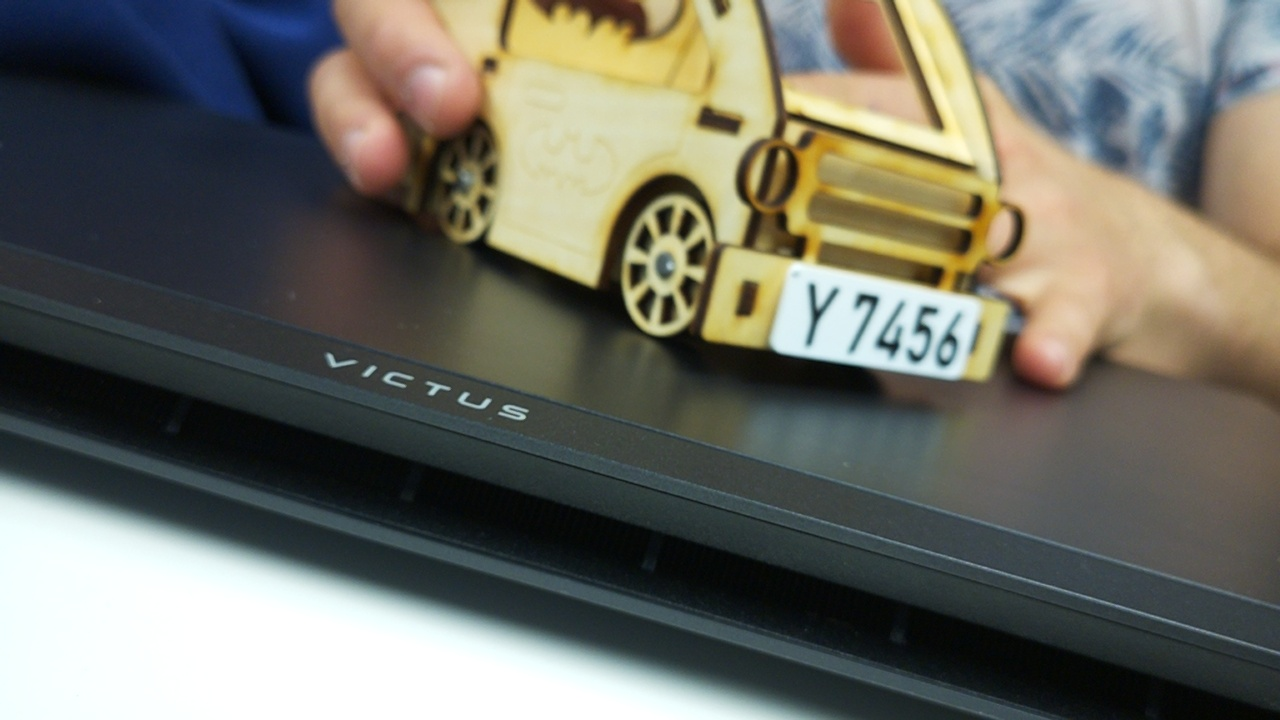license_plate: (767, 257, 982, 382)
